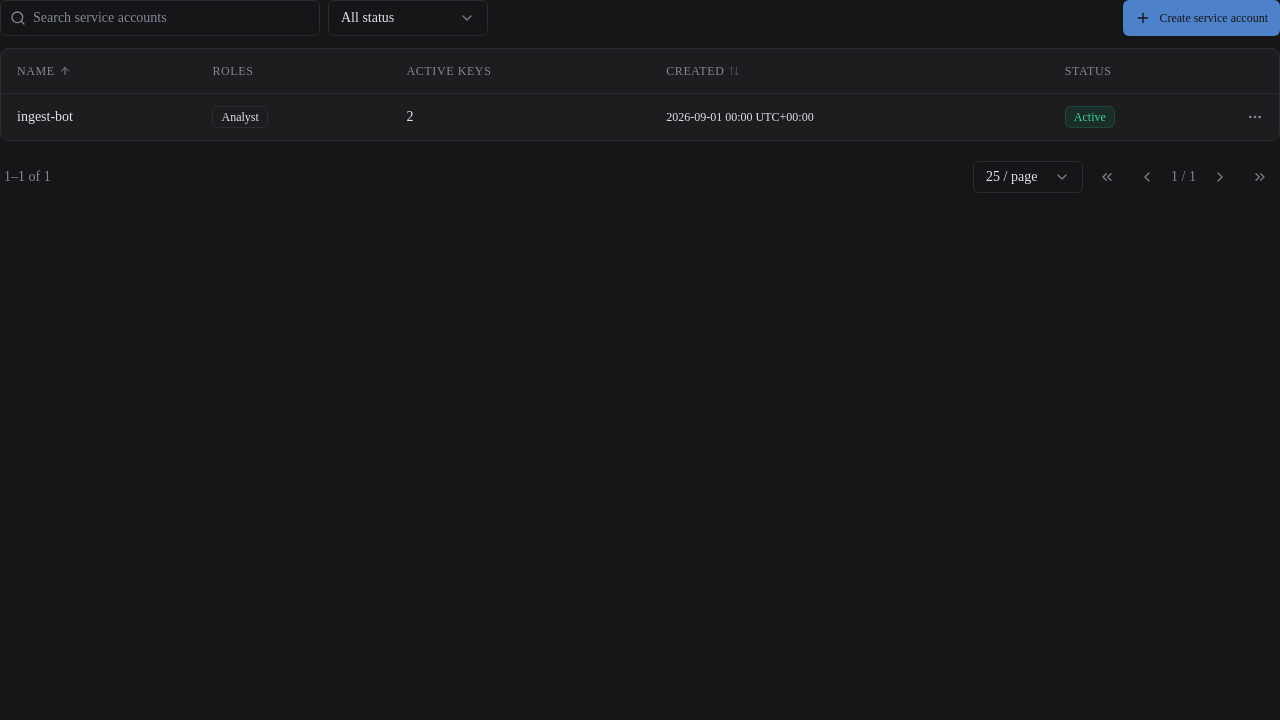
Test: service accounts › shows the guard refusal with the missing permissions
Expected: the text "ingest-bot" is shown, [17, 108, 73, 124]
Click the button "Create service account". click: (1202, 18)
box: [1123, 0, 1279, 36]
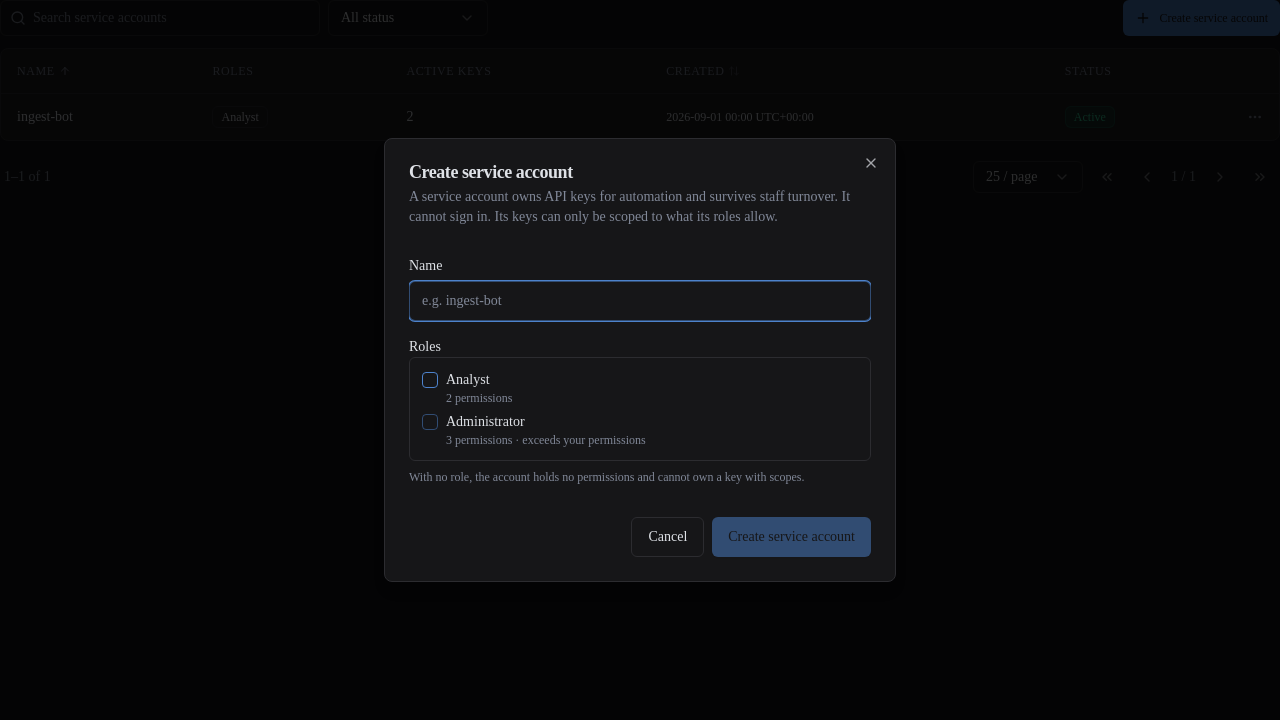
Type "bot" into the field labelled "Name". click: (640, 301)
box: [409, 281, 871, 321]
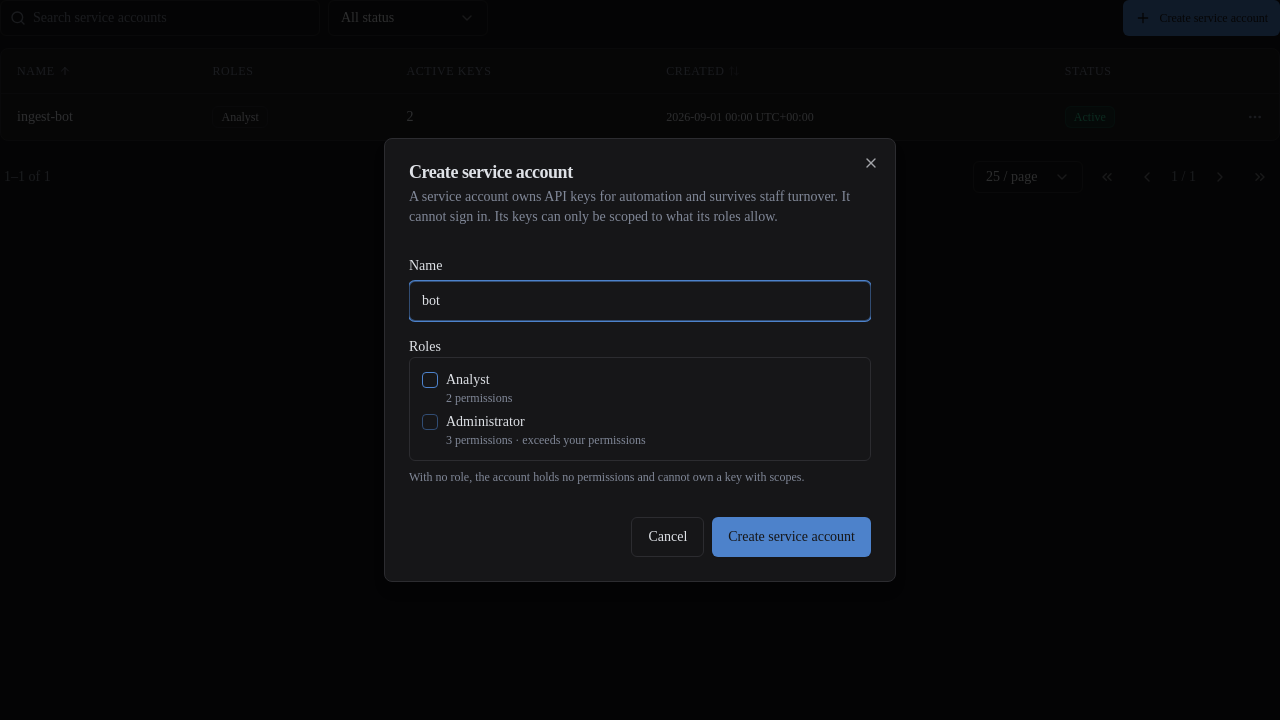
Click the button "Create service account". click: (792, 537)
box: [712, 517, 871, 557]
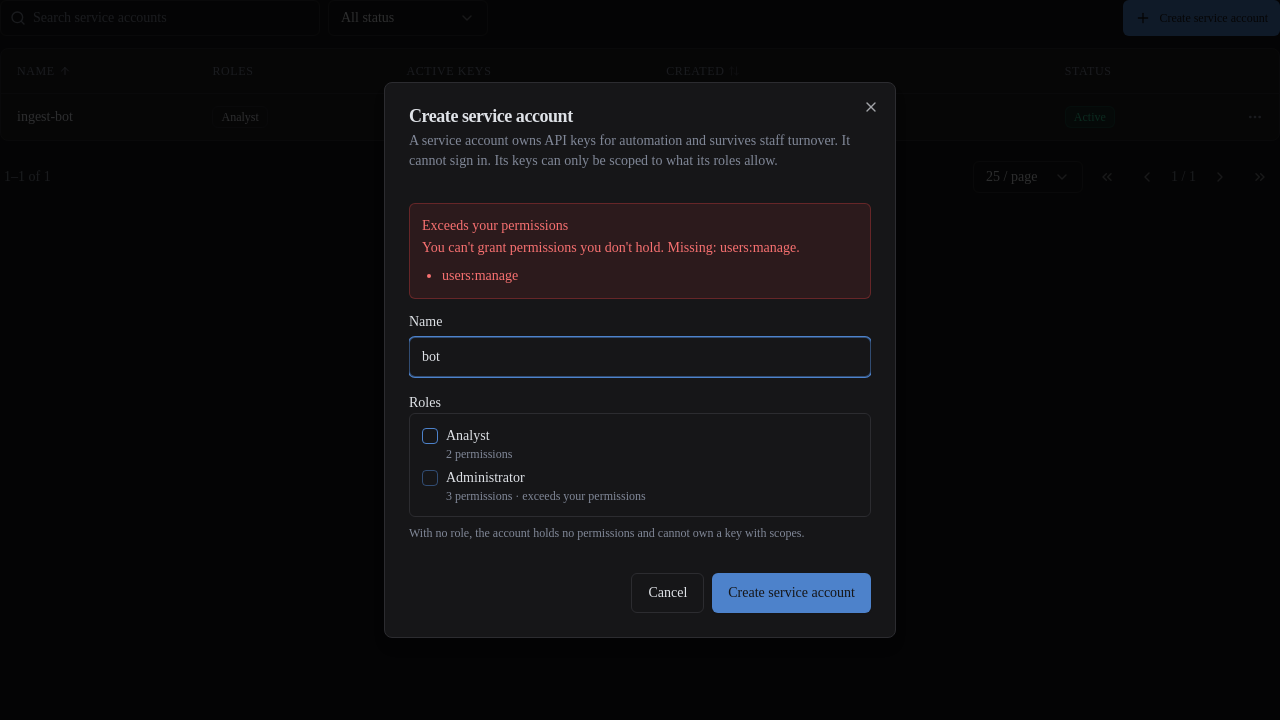
Expected: the message shows "Exceeds your permissions", [422, 218, 568, 233]
Expected: the message shows "users:manage", [442, 268, 518, 283]
